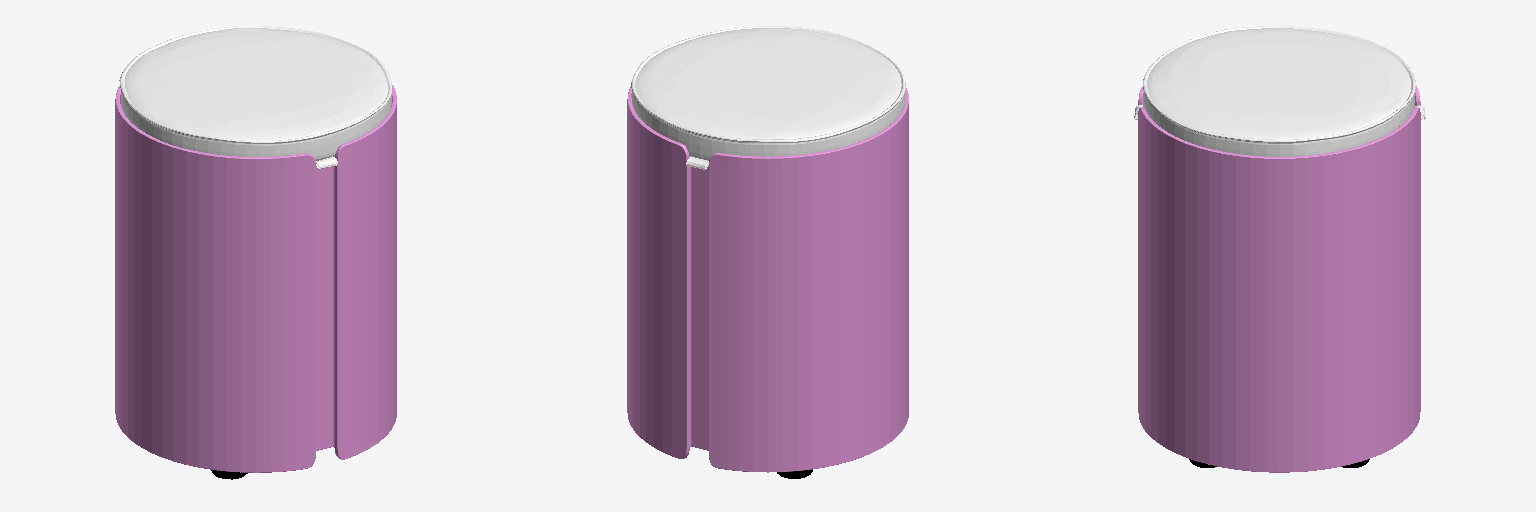
Rendered from eurolegno_amarcord_cestino_obj.obj.
3 renders of one model, left to right at view 1: azimuth 30°, elevation 25°; view 2: azimuth 150°, elevation 25°; view 3: azimuth 270°, elevation 25°, orthographic.
Parts seen in each view (by area): view 1: eurolegno_amarcord_cestino; view 2: eurolegno_amarcord_cestino; view 3: eurolegno_amarcord_cestino.
Boxes of the visible parts, box(x1,y1,x2,y2) form: eurolegno_amarcord_cestino: box(115, 26, 396, 479); eurolegno_amarcord_cestino: box(627, 26, 908, 478); eurolegno_amarcord_cestino: box(1134, 26, 1425, 472).
Bounding box in the file's own units: 32.35 × 44.42 × 33.5.